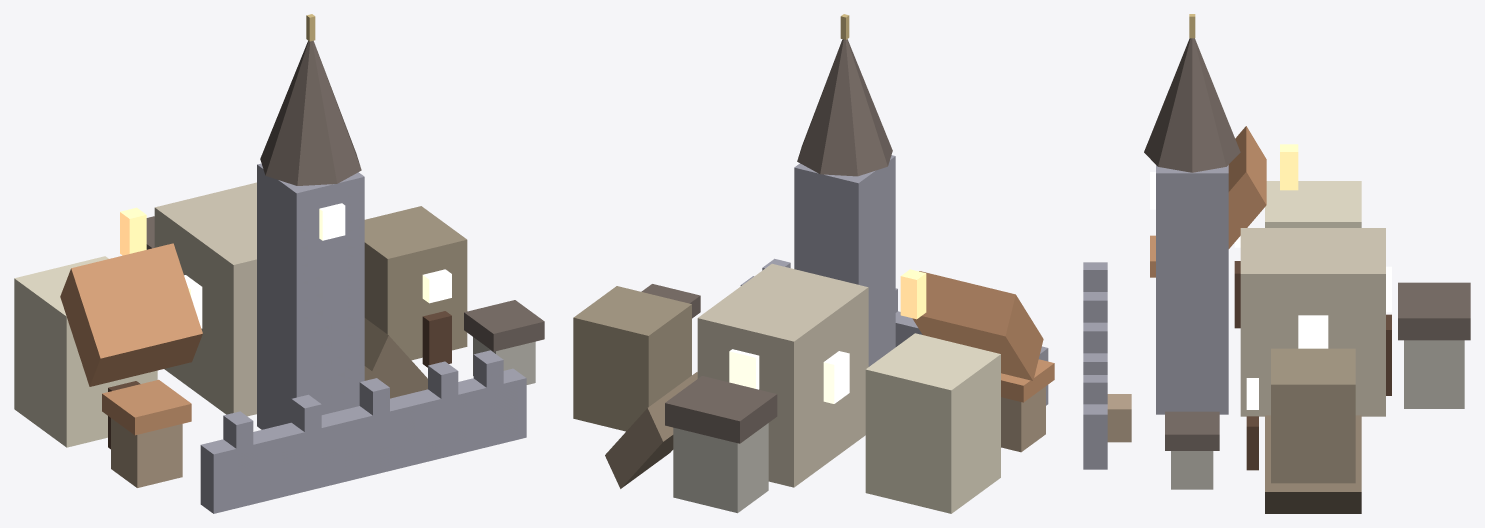
Rendered from city-town-0.glb.
The picture shows the model from 3 angles, left to right: view 1: azimuth 30°, elevation 25°; view 2: azimuth 150°, elevation 25°; view 3: azimuth 270°, elevation 25°; orthographic projection. The views are drawn at different scales.
Parts seen in each view (by area): view 1: city-town-0; view 2: city-town-0; view 3: city-town-0.
Boxes of the visible parts, x1,y1,x2,y2 form: city-town-0: [14, 14, 544, 513]; city-town-0: [573, 14, 1054, 513]; city-town-0: [1083, 14, 1470, 513].
Size of the model in its own units: 0.755 by 0.7897 by 0.64.
